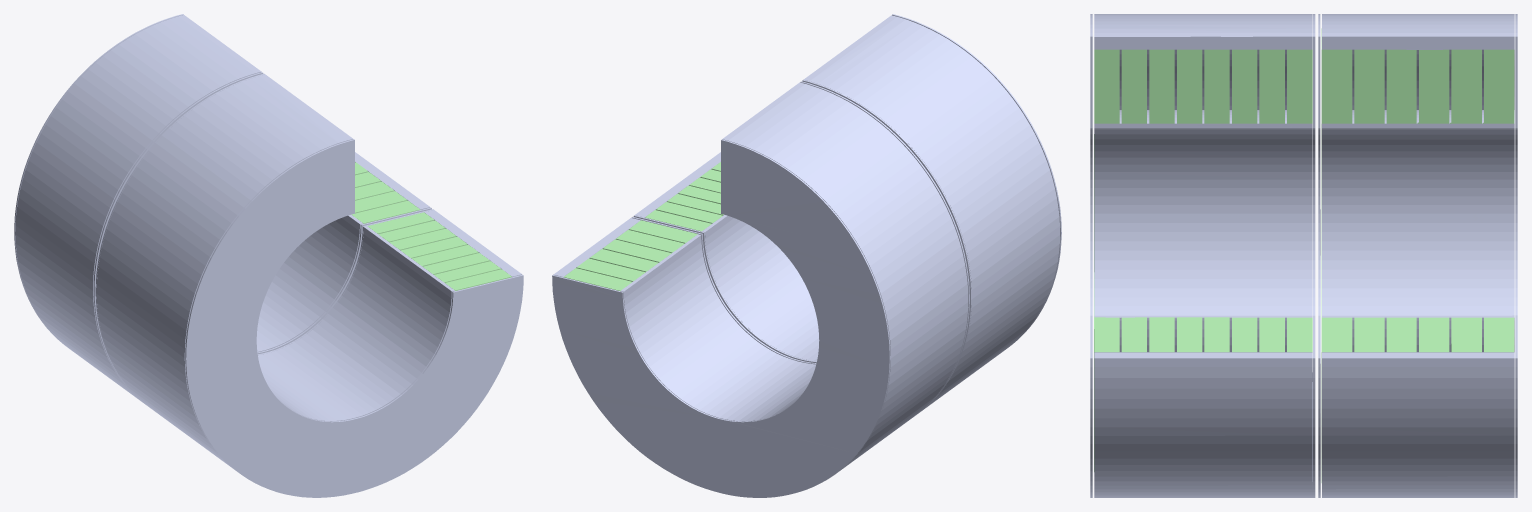
File: TRT-SideA-cut3-transformed.glb
3 views of the same model, side by side, from view 1: azimuth 30°, elevation 25°; view 2: azimuth 150°, elevation 25°; view 3: azimuth 270°, elevation 25° (orthographic). The views are drawn at different scales.
Visible parts, largest first — view 1: null; view 2: null; view 3: null.
Part boxes in pixels (x1,y1,x2,y2): null: (14, 14, 523, 497); null: (552, 14, 1061, 497); null: (1090, 14, 1517, 497).
Bounding box in the file's own units: 2.14 × 2.14 × 1.88.
